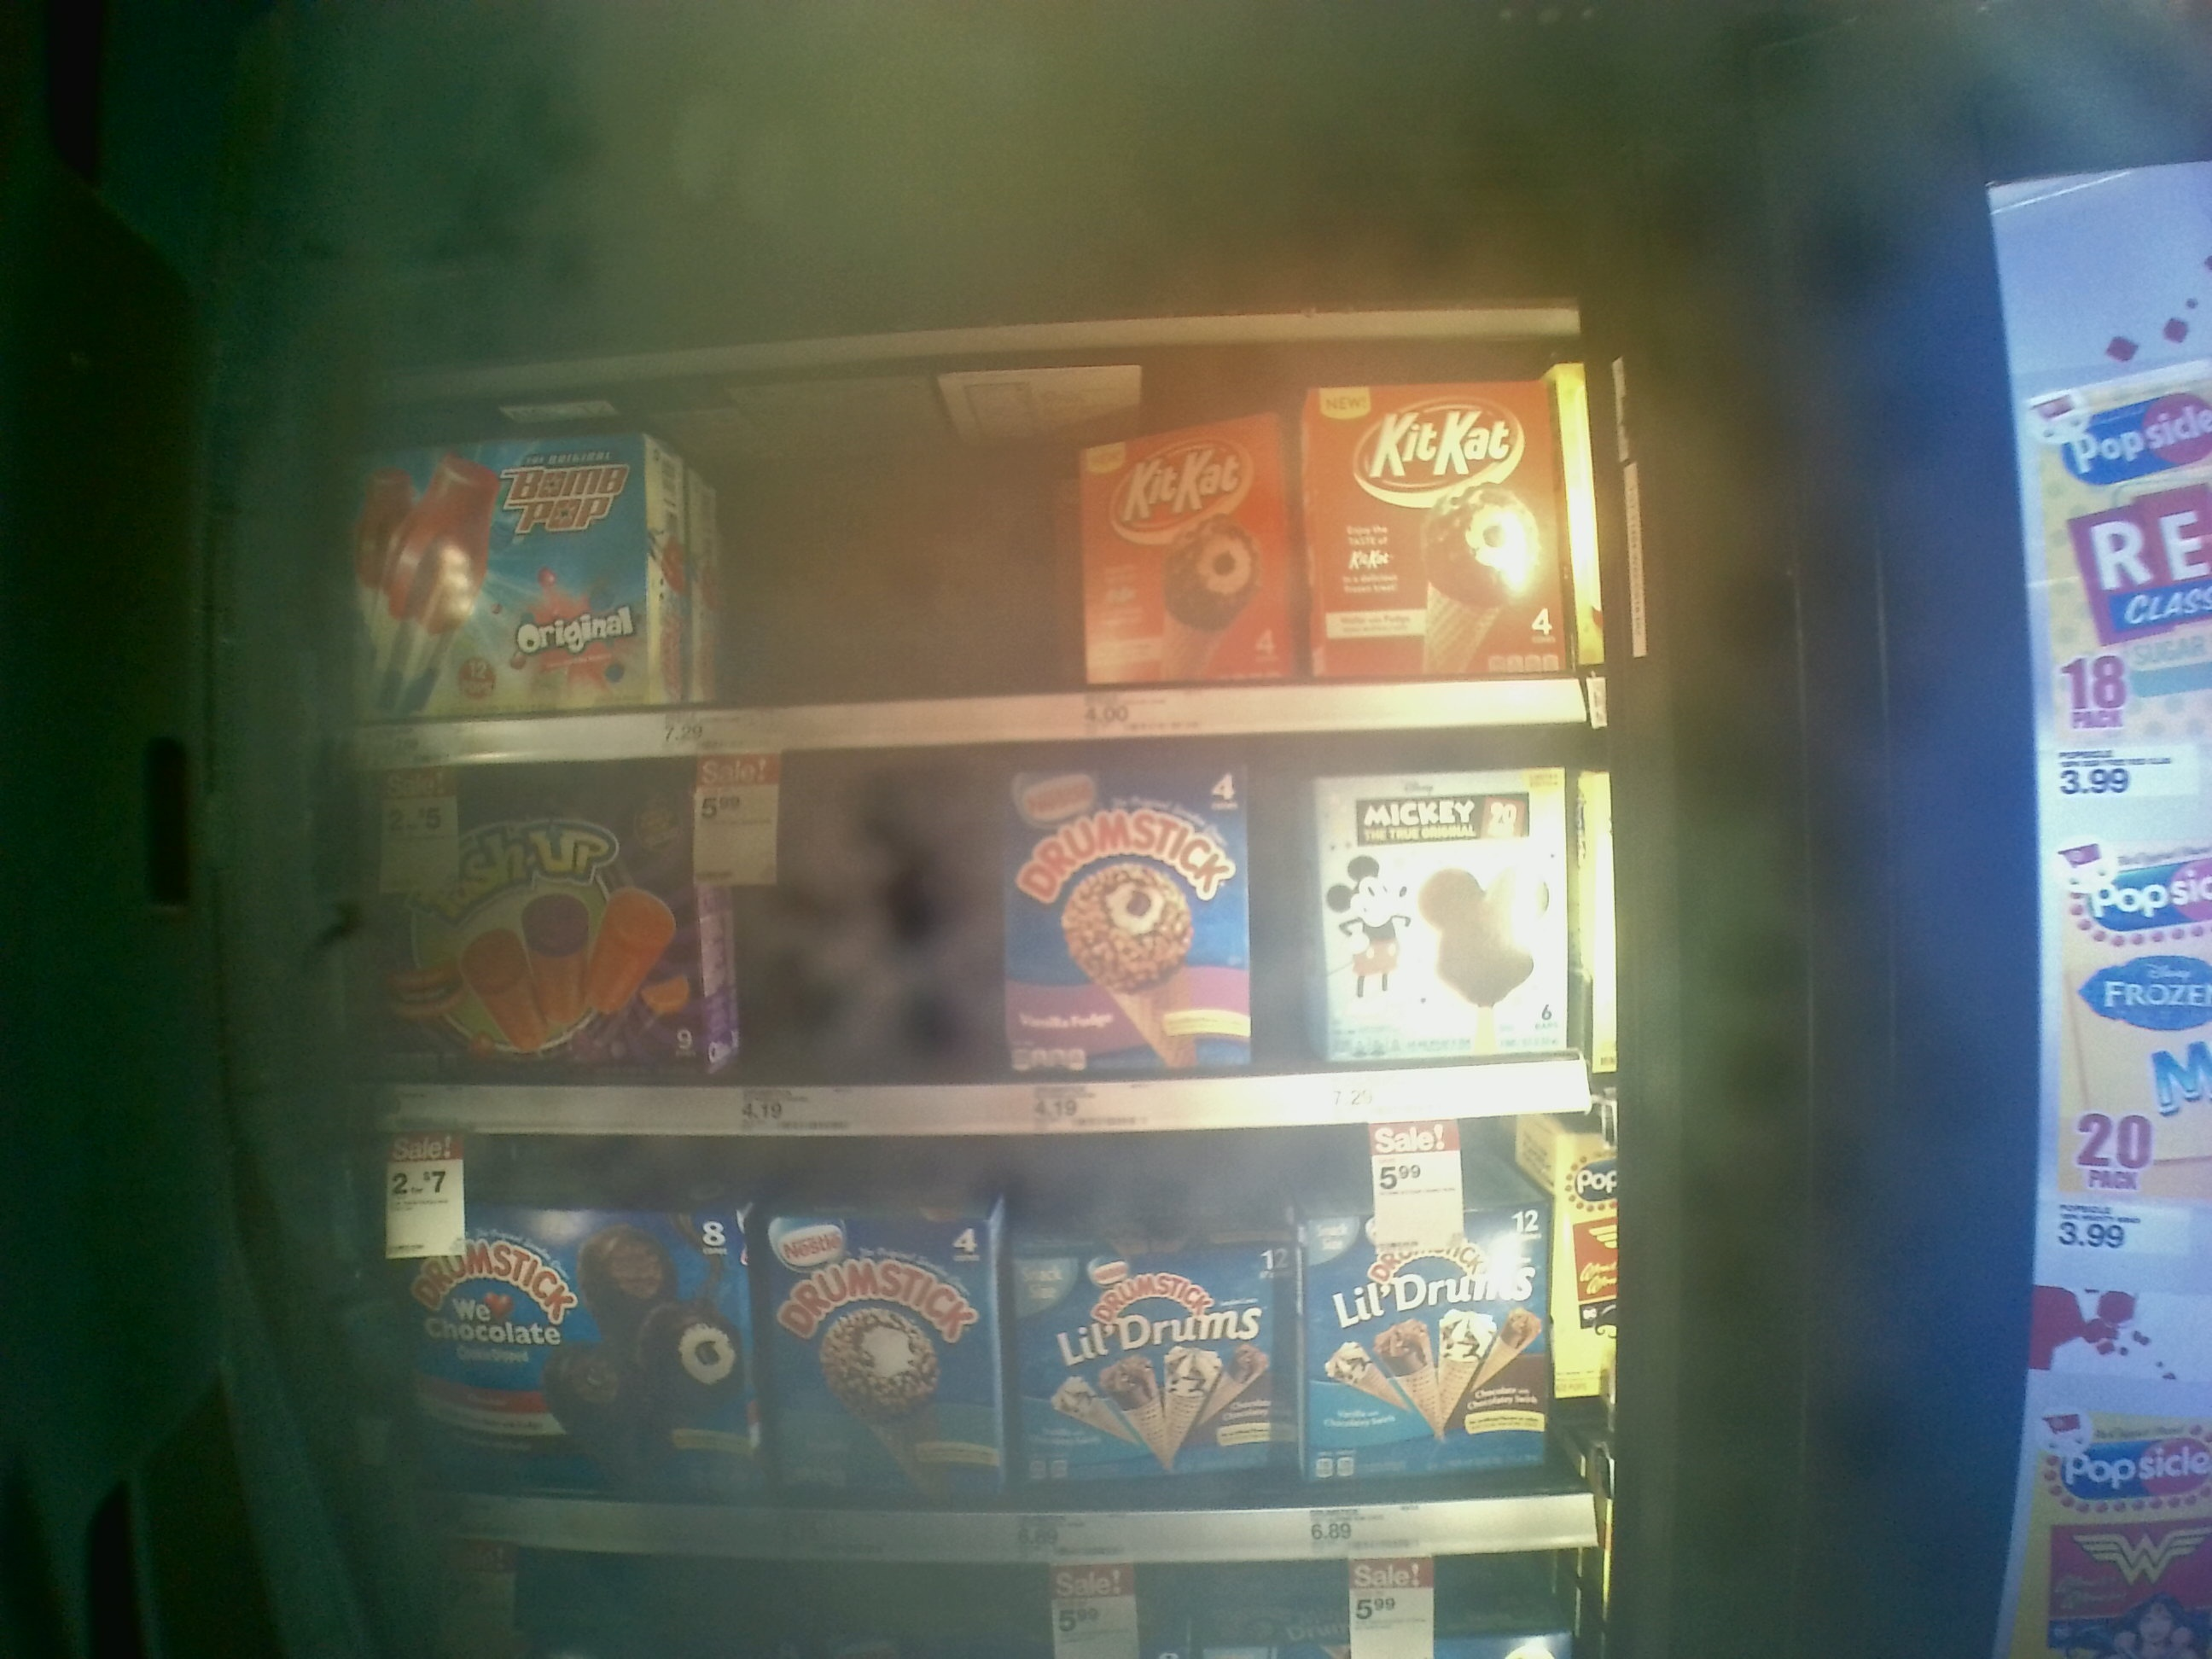ice-cream-shelf: (374, 1129, 1609, 1560), (371, 728, 1611, 1127), (350, 366, 1599, 751)
